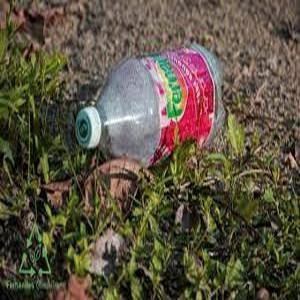Plastic: (77, 44, 220, 167)
